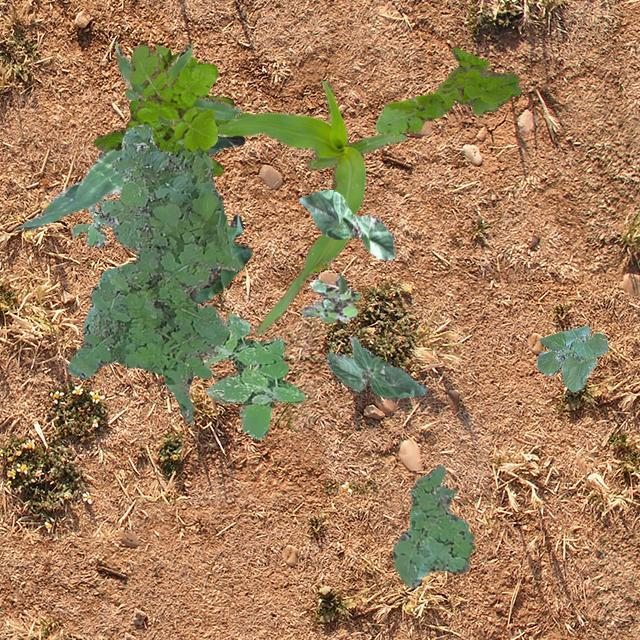crop: (216, 80, 406, 334), (15, 134, 244, 230), (114, 40, 240, 124), (298, 188, 394, 258), (324, 336, 426, 396), (194, 214, 250, 302), (536, 324, 606, 390)
weed: (66, 122, 242, 422), (92, 44, 232, 174), (374, 46, 520, 136), (202, 312, 304, 438), (392, 464, 474, 586), (128, 44, 216, 150), (300, 274, 358, 322), (70, 203, 111, 246)
